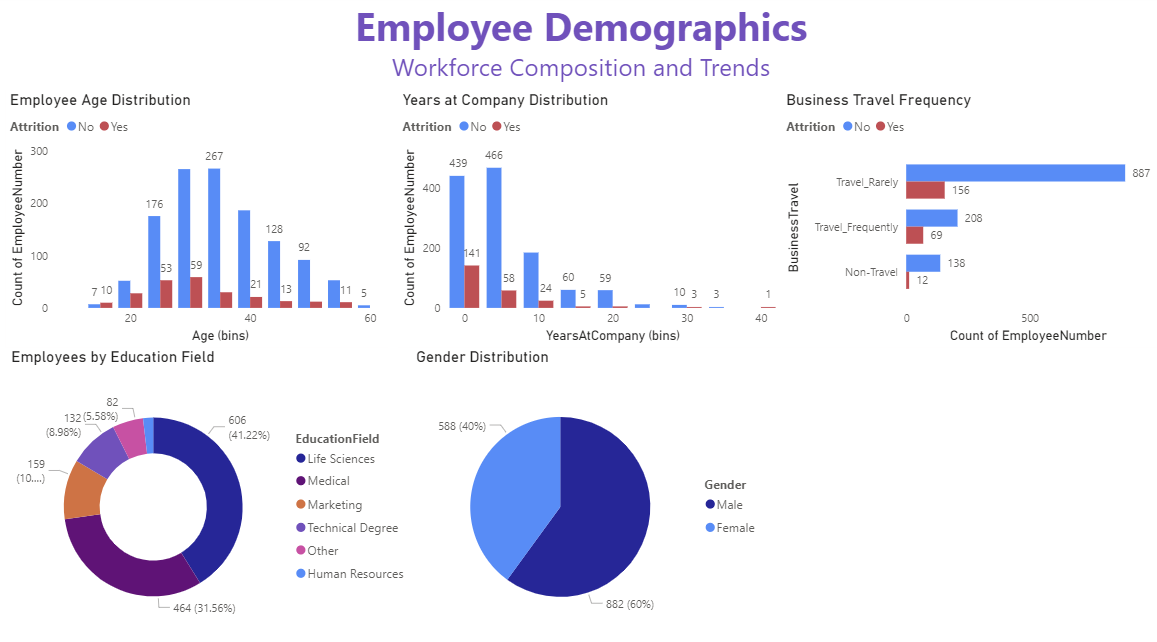

What the dashboard file says about the page in this screenshot:
{"tool":"powerbi","page":{"name":"Employee Demographics","canvas":[1280,720],"ordinal":2},"visuals":[{"type":"clusteredColumnChart","title":"Employee Age Distribution","fields":{"Y":["CountNonNull(clean_employee_attrition.EmployeeNumber)"],"Category":["clean_employee_attrition.Age (bins)"],"Series":["clean_employee_attrition.Attrition"]},"box":[8.2,105.7,419.9,282.7],"z":0},{"type":"donutChart","title":"Employees by Education Field","fields":{"Category":["clean_employee_attrition.EducationField"],"Y":["CountNonNull(clean_employee_attrition.EmployeeNumber)"]},"box":[9,388.9,450.1,330.7],"z":1},{"type":"pieChart","title":"Gender Distribution","fields":{"Category":["clean_employee_attrition.Gender"],"Y":["CountNonNull(clean_employee_attrition.EmployeeNumber)"]},"box":[453.6,388.9,392.5,330.7],"z":2},{"type":"clusteredBarChart","title":"Business Travel Frequency","fields":{"Category":["clean_employee_attrition.BusinessTravel"],"Y":["CountNonNull(clean_employee_attrition.EmployeeNumber)"],"Series":["clean_employee_attrition.Attrition"]},"box":[860.4,105.7,419.9,282.7],"z":3},{"type":"clusteredColumnChart","title":"Years at Company Distribution","fields":{"Y":["CountNonNull(clean_employee_attrition.EmployeeNumber)"],"Category":["clean_employee_attrition.YearsAtCompany (bins)"],"Series":["clean_employee_attrition.Attrition"]},"box":[439.1,105.7,419.9,282.7],"z":4},{"type":"textbox","box":[0,0,1280.3,105.7],"z":5}]}

Visuals, with their boxes in screenshot pixels (x1, y1, x2, y2), scaled from the page's 1280x720 canvas onto the 1157x642 screenshot:
"Employee Age Distribution" clusteredColumnChart: Rect(7, 94, 387, 346)
"Employees by Education Field" donutChart: Rect(8, 347, 415, 641)
"Gender Distribution" pieChart: Rect(410, 347, 765, 641)
"Business Travel Frequency" clusteredBarChart: Rect(778, 94, 1156, 346)
"Years at Company Distribution" clusteredColumnChart: Rect(397, 94, 776, 346)
textbox: Rect(0, 0, 1156, 94)
